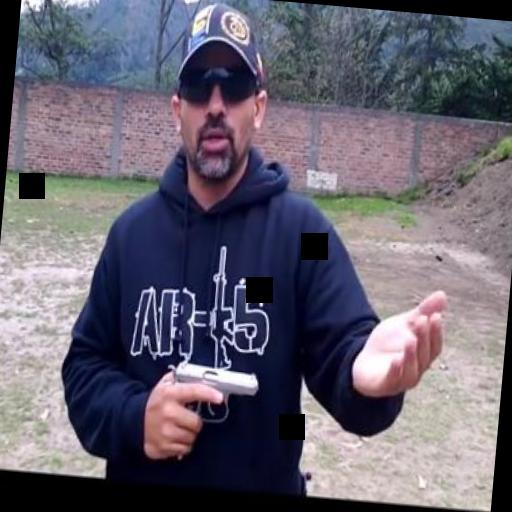Handgun: (159, 356, 260, 464)
